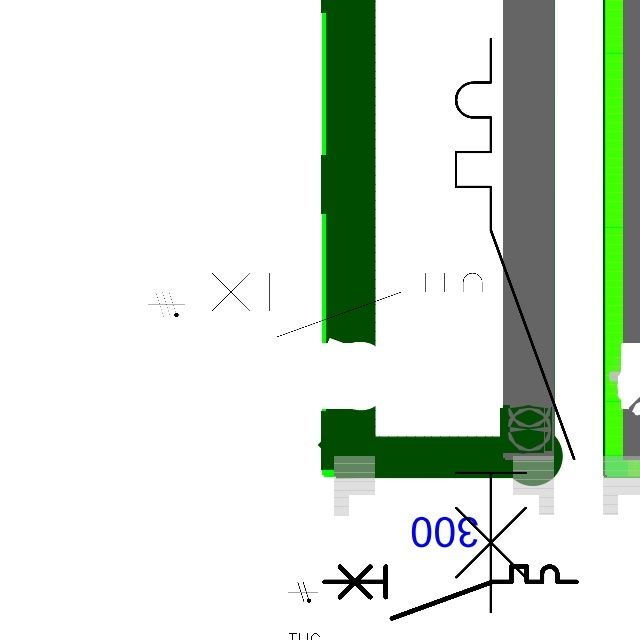interruptor_termomagnetico: (441, 24, 588, 627), (185, 265, 514, 345), (317, 560, 582, 624)
